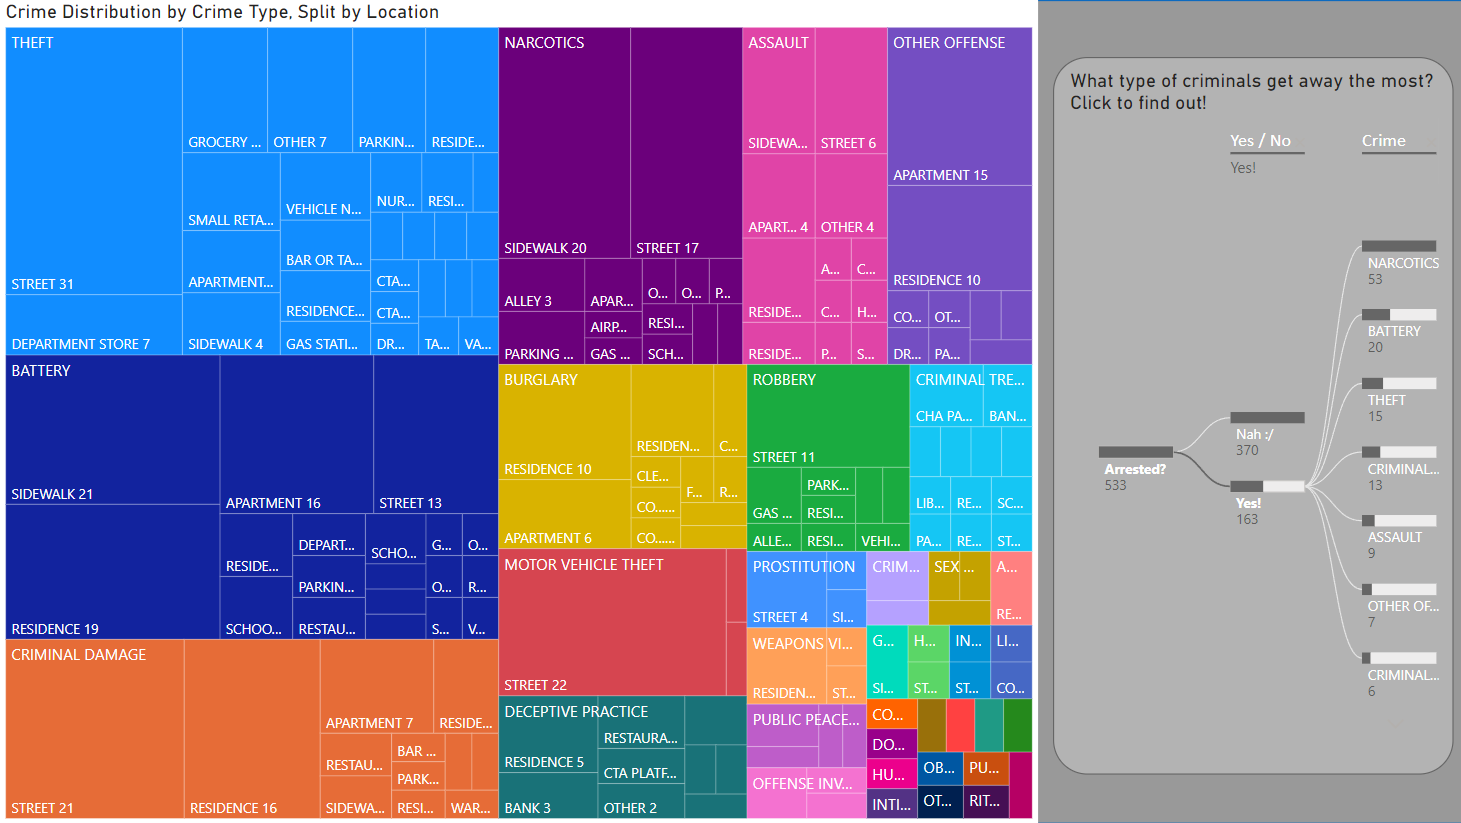

Layout of this report page (visuals, bound fields, positions):
{"tool":"powerbi","page":{"name":"Tree-mapping","canvas":[1280,720],"ordinal":3},"visuals":[{"type":"shape","box":[0,0.2,1280,719.8],"z":0},{"type":"treemap","title":"Crime Distribution by Crime Type, Split by Location","fields":{"Group":["public crime.primary_type"],"Values":["CountNonNull(public crime.case_number)"],"Details":["public crime.location_description"]},"box":[0,0,906.8,720.2],"z":1000},{"type":"decompositionTreeVisual","title":"What type of criminals get away the most? Click to find out!","fields":{"ExplainBy":["public crime.CustomLabel","public crime.primary_type"],"Analyze":["CountNonNull(public crime.case_number)"]},"box":[920.1,49.6,350.2,627.4],"z":2000}]}

Visuals, with their boxes in screenshot pixels (x1, y1, x2, y2), scaled from the page's 1280x720 canvas onto the 1461x823 screenshot:
shape: crop(0, 0, 1460, 822)
"Crime Distribution by Crime Type, Split by Location" treemap: crop(0, 0, 1035, 822)
"What type of criminals get away the most? Click to find out!" decompositionTreeVisual: crop(1050, 57, 1450, 774)
